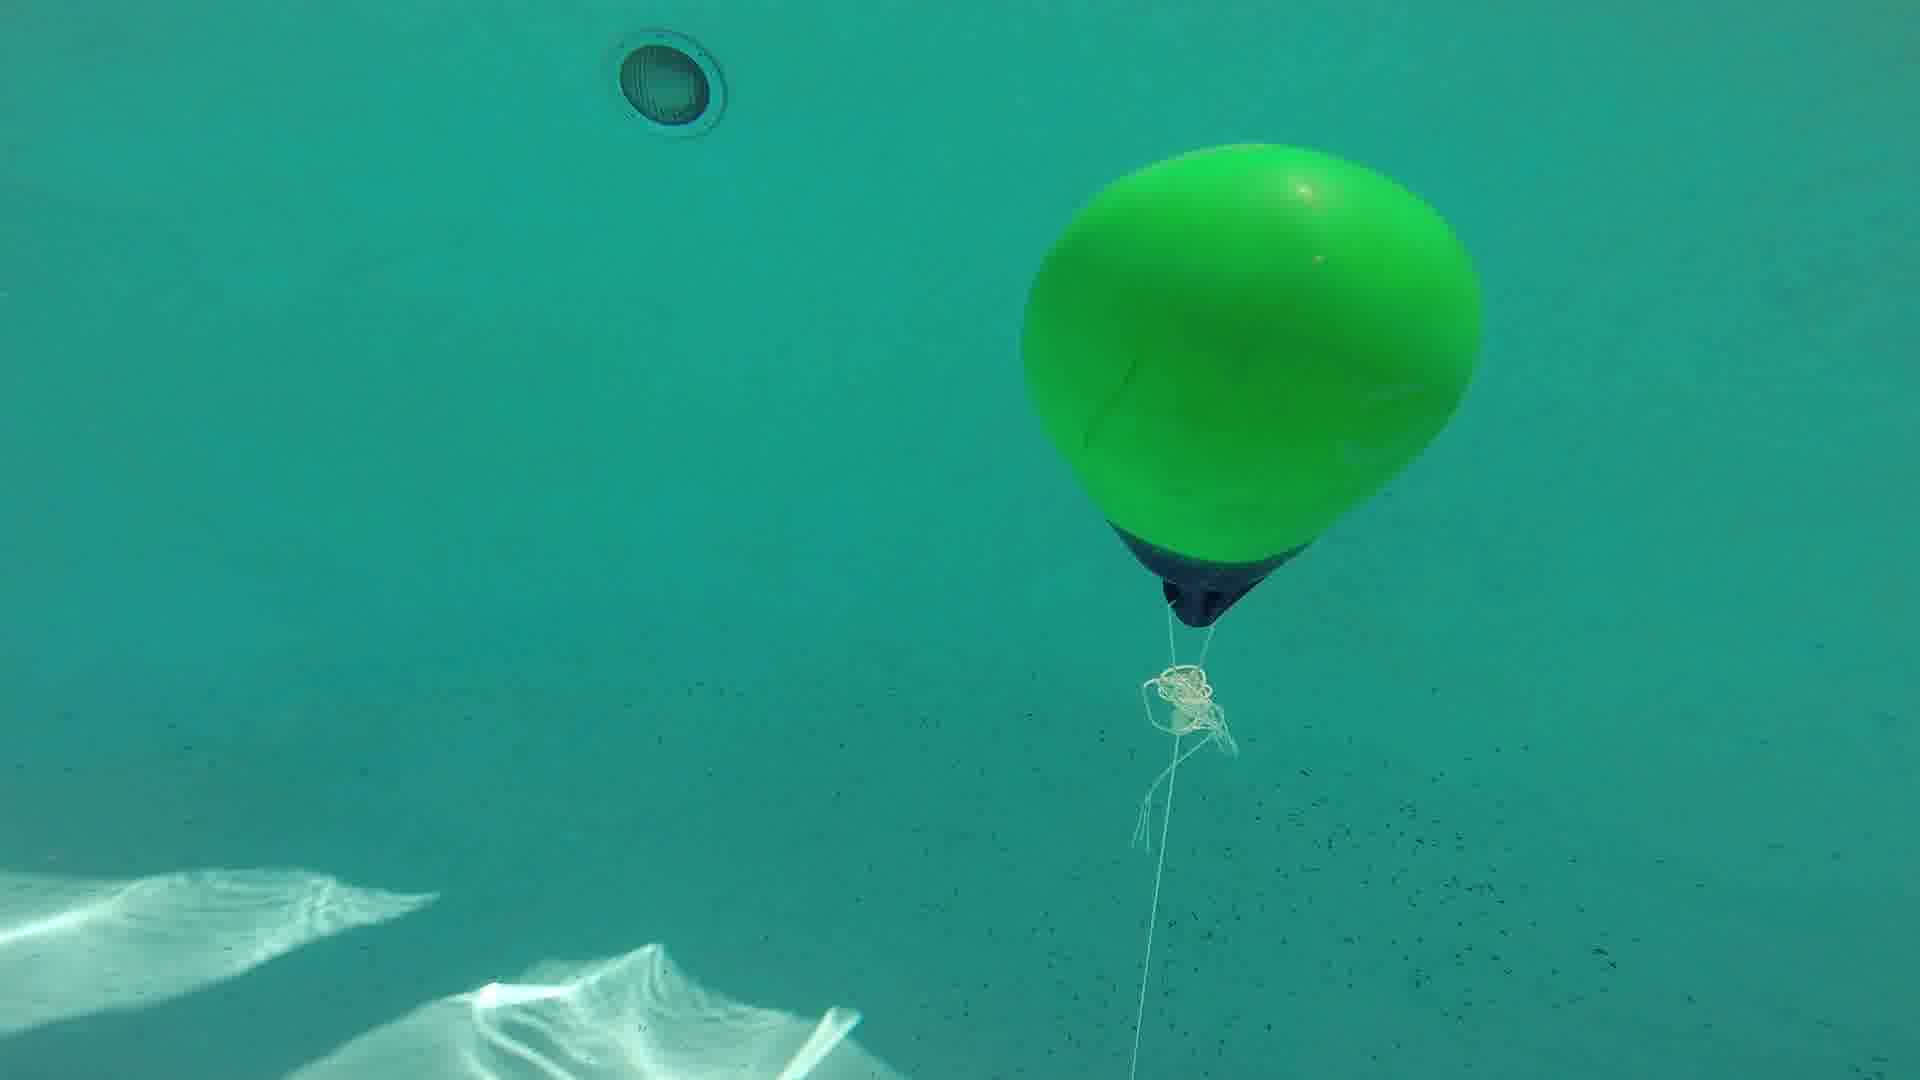yellow_buoy: (1005, 136, 1487, 641)
